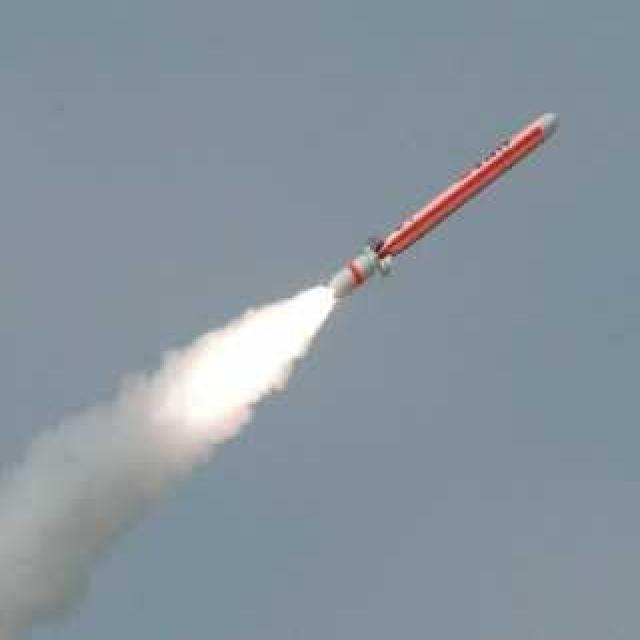missile: (326, 105, 560, 308)
